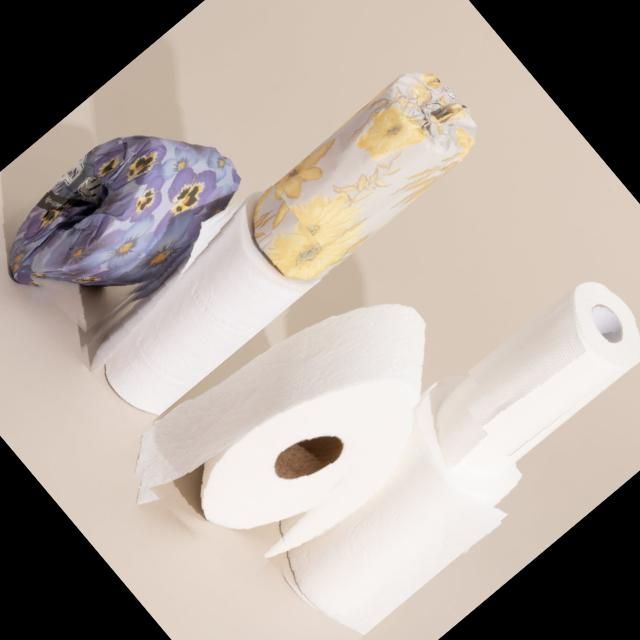PaperCardboard: (141, 298, 428, 522), (287, 405, 519, 639), (96, 187, 325, 414), (243, 73, 475, 261), (423, 288, 640, 480), (6, 133, 238, 294)
